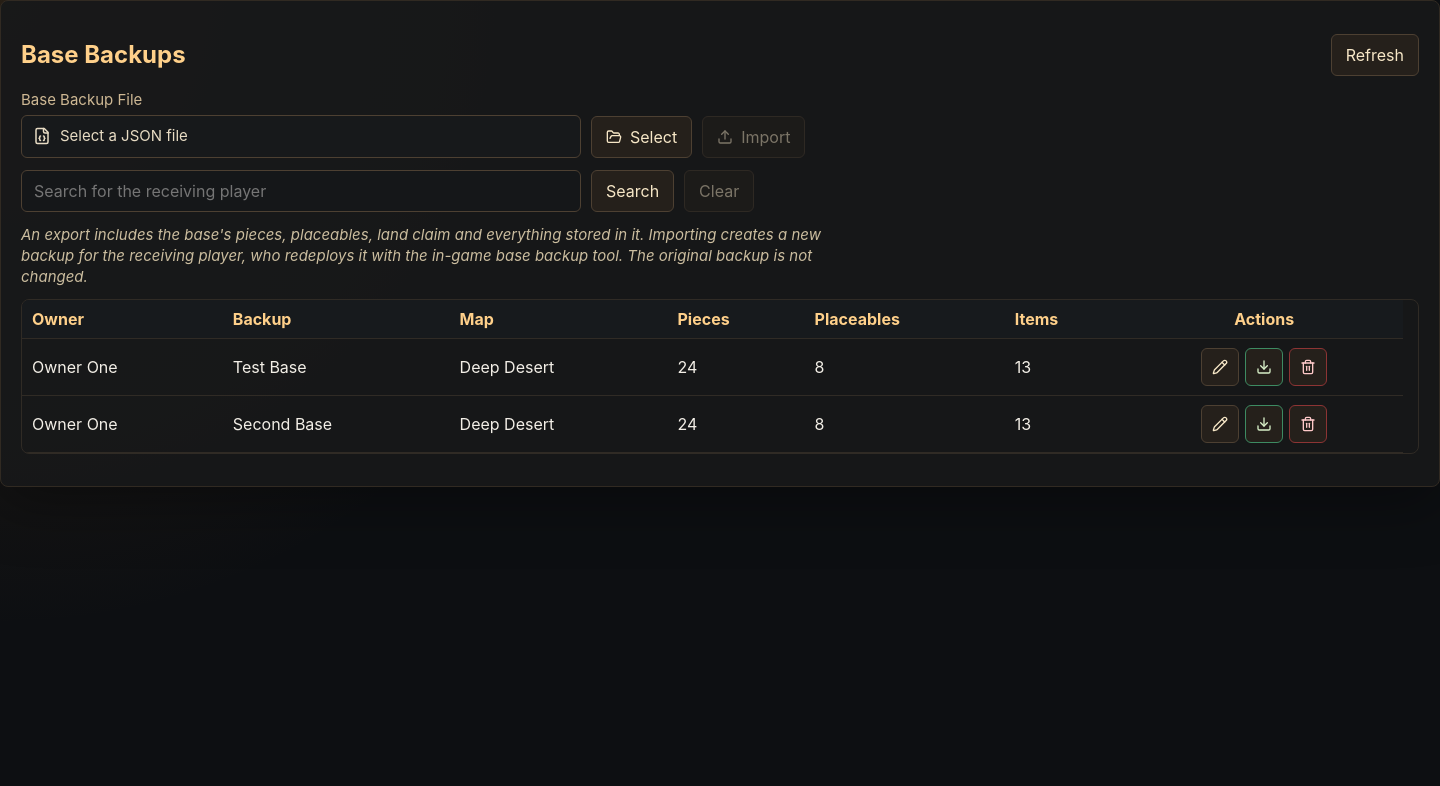
Scenario: BaseBackupsView › editing owner and name › opens in an expanded row directly under the backup being edited
Step 1. Click the button named "Edit Test Base" → x=1220, y=367, box [1201,348,1239,386]
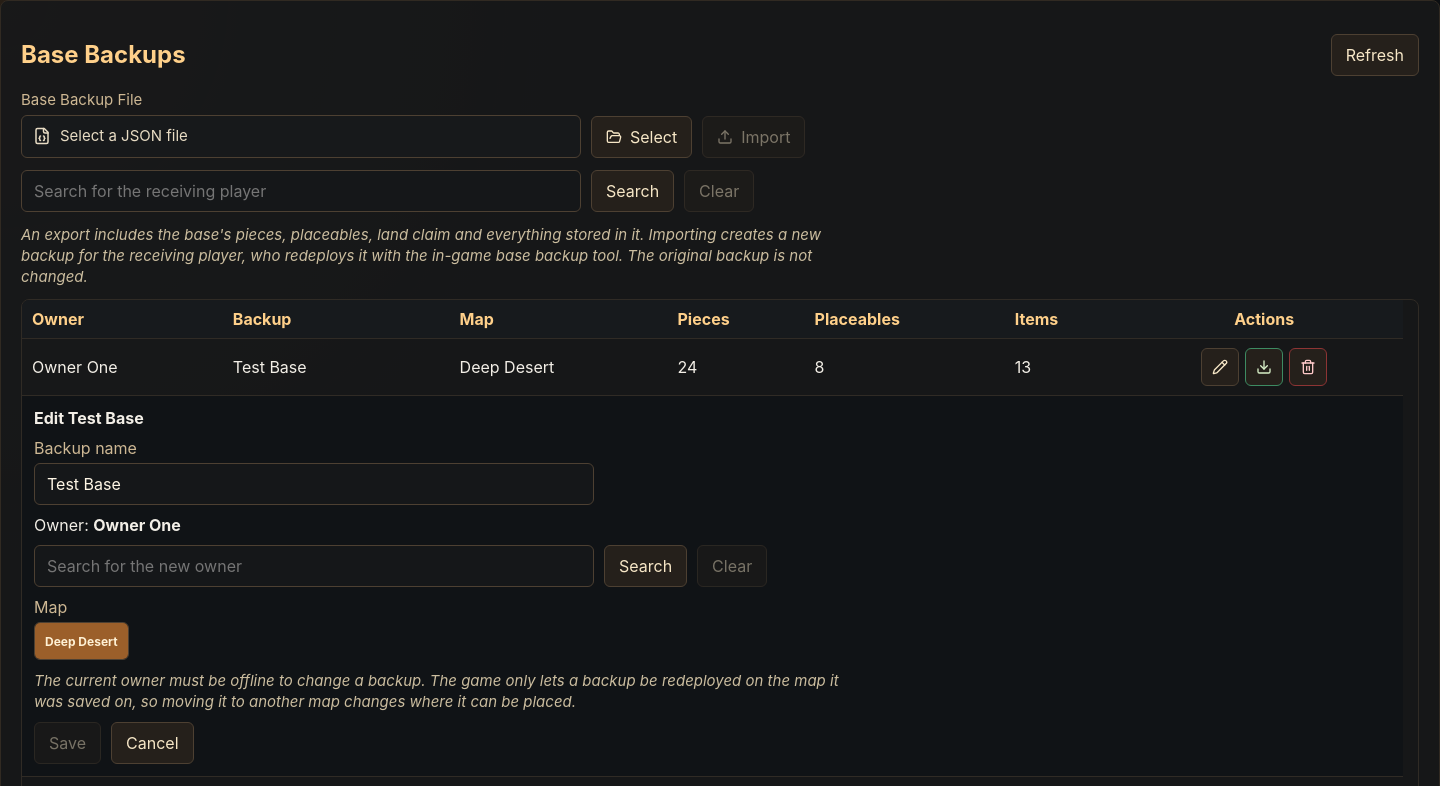
Step 2. Click the button "Cancel" → x=152, y=743, box [111,722,194,764]
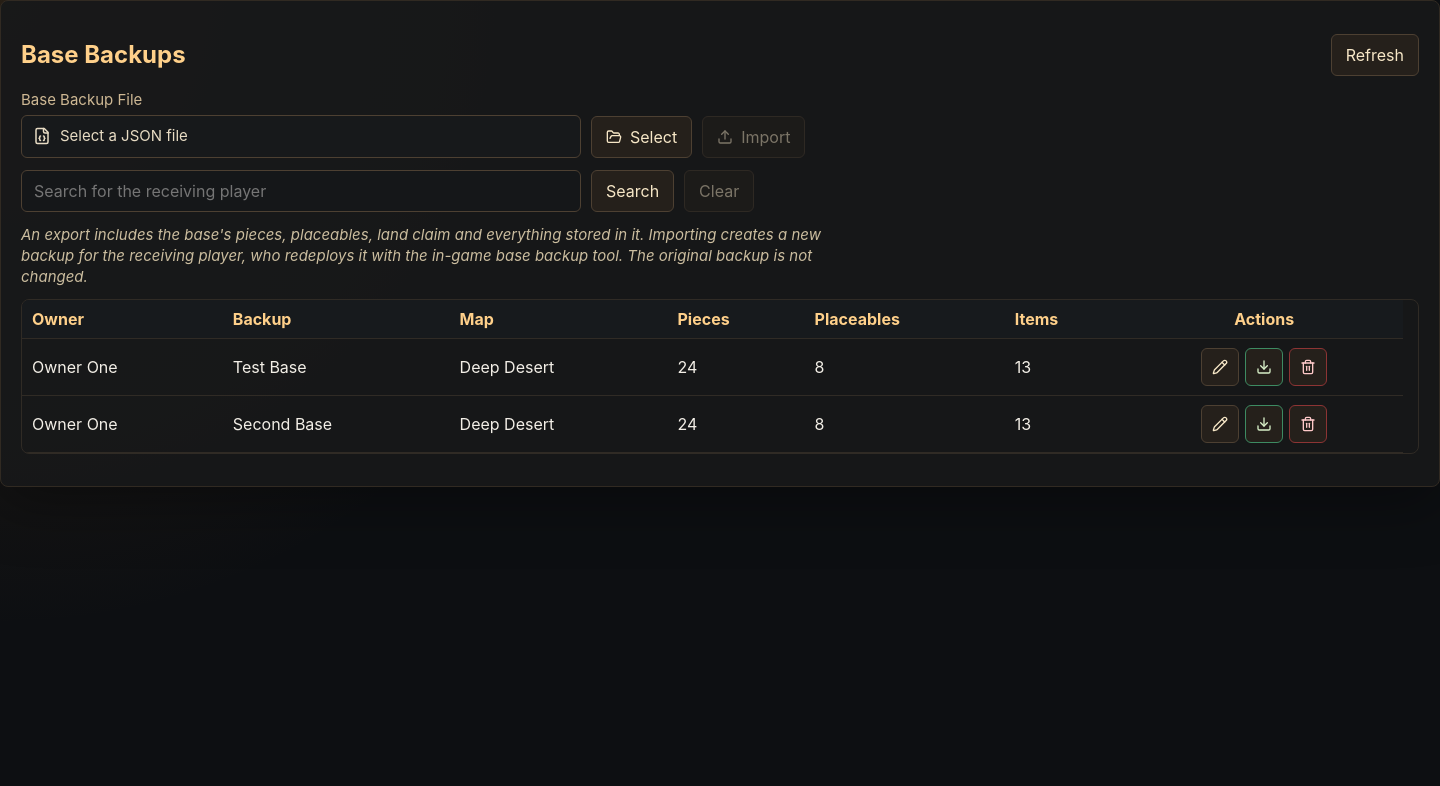
Now the text "Edit Test Base" is gone
